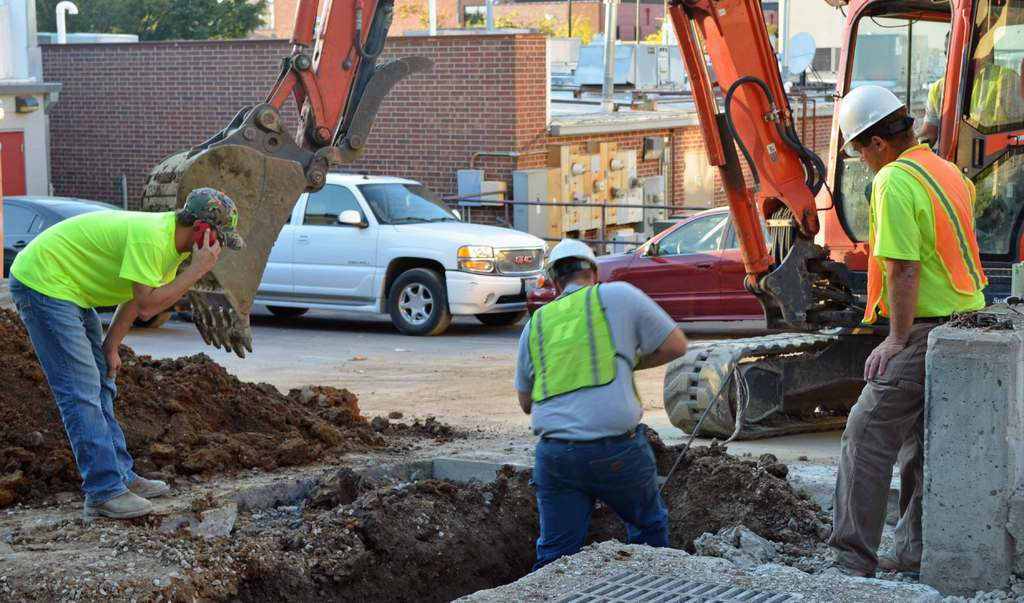Car: (252, 173, 559, 331), (530, 208, 764, 338), (0, 189, 121, 276)
